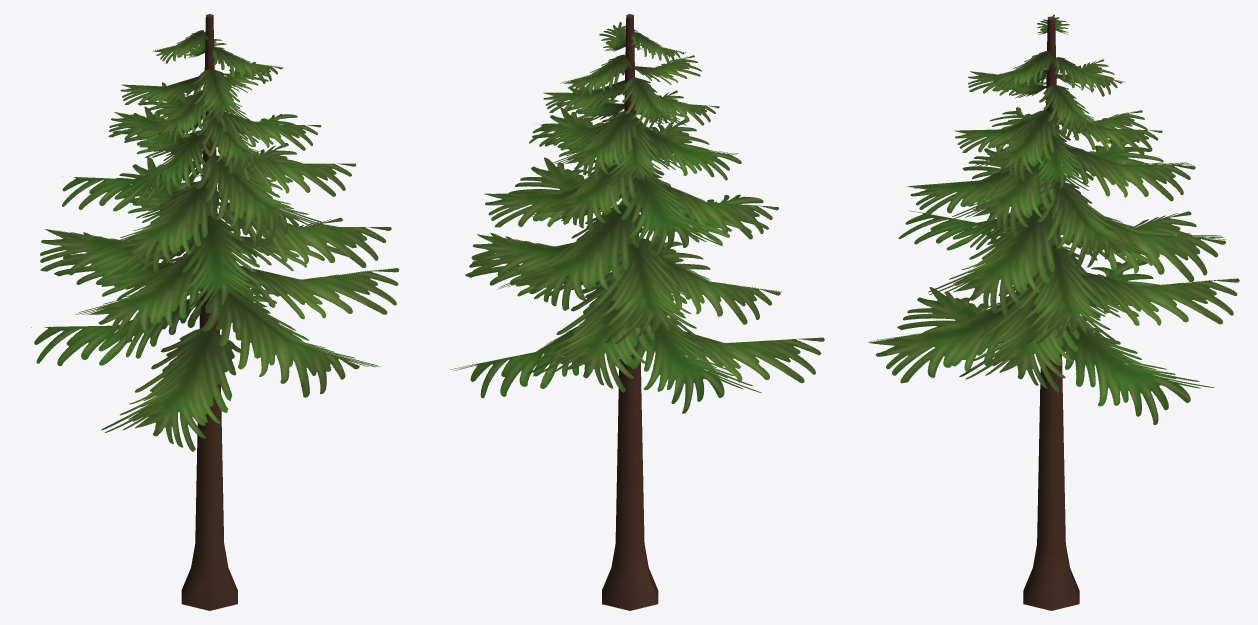
File: TreePine2.fbx
3 views of the same model, side by side, from view 1: azimuth 30°, elevation 25°; view 2: azimuth 150°, elevation 25°; view 3: azimuth 270°, elevation 25° (orthographic).
Parts seen in each view (by area): view 1: Pine_v1_2; view 2: Pine_v1_2; view 3: Pine_v1_2.
Boxes of the visible parts, x1,y1,x2,y2 form: Pine_v1_2: [31, 14, 398, 610]; Pine_v1_2: [450, 14, 824, 610]; Pine_v1_2: [869, 14, 1239, 610].
Size of the model in its own units: 508 by 843 by 512.
